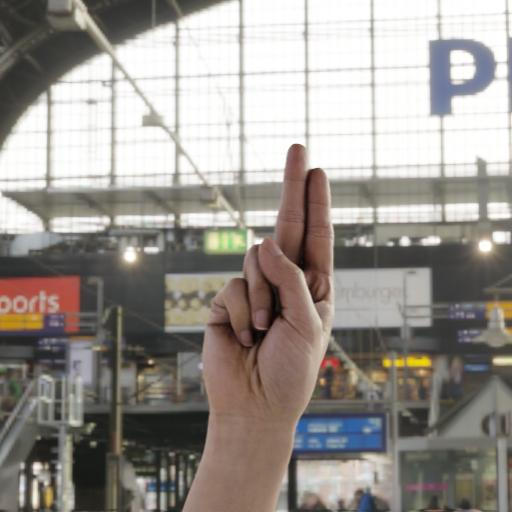U: (186, 129, 352, 512)
